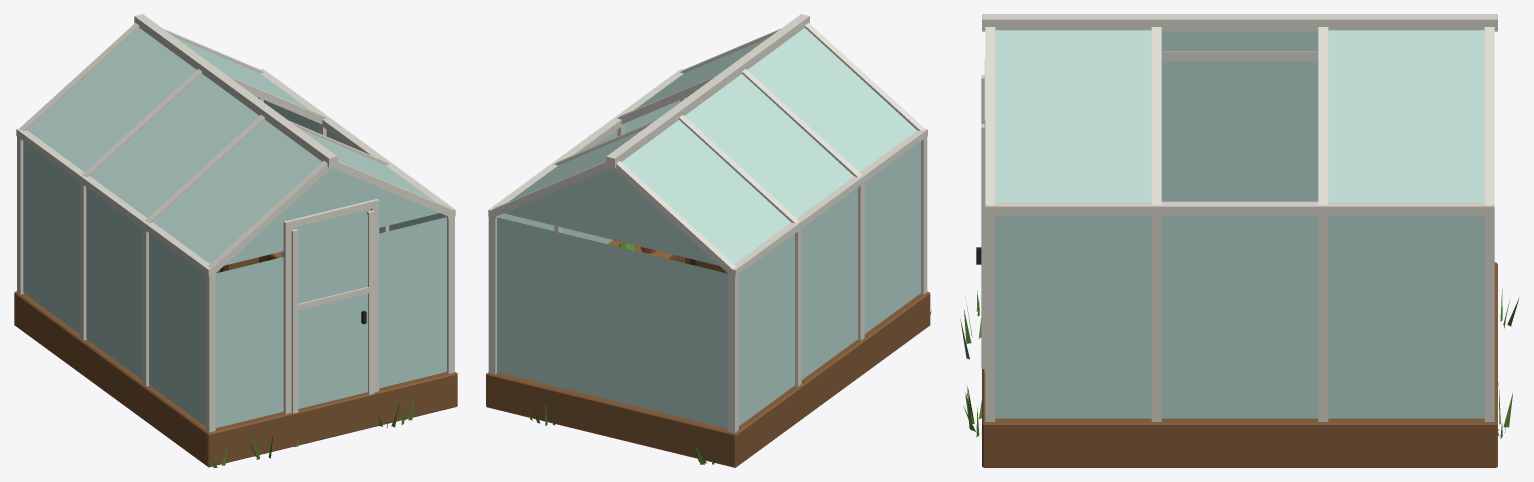
The model's file is Greenhouse.fbx.
3 renders of one model, left to right at view 1: azimuth 30°, elevation 25°; view 2: azimuth 150°, elevation 25°; view 3: azimuth 270°, elevation 25°, orthographic. The views are drawn at different scales.
Visible parts, largest first — view 1: Greenhouse; view 2: Greenhouse; view 3: Greenhouse.
Boxes of the visible parts, <box> form: Greenhouse: <box>14,14,457,467</box>; Greenhouse: <box>486,14,931,467</box>; Greenhouse: <box>960,14,1519,467</box>.
Bounding box in the file's own units: 2.3 × 2.46 × 3.36.
1 material, 1 textured.
